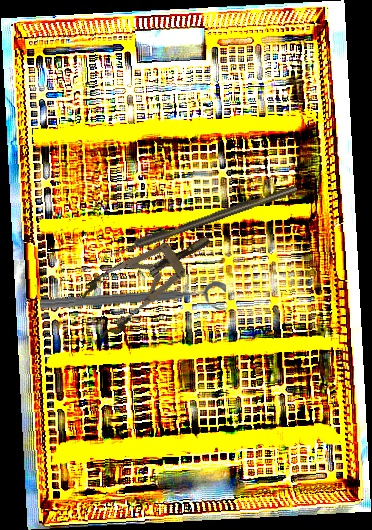Fixation Ring: (39, 280, 228, 325)
Hook Surgical: (107, 184, 299, 258)
Speculum: (73, 214, 226, 343)
